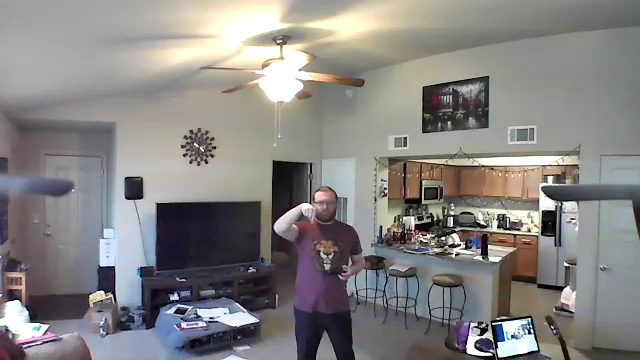down: (295, 195, 320, 227)
